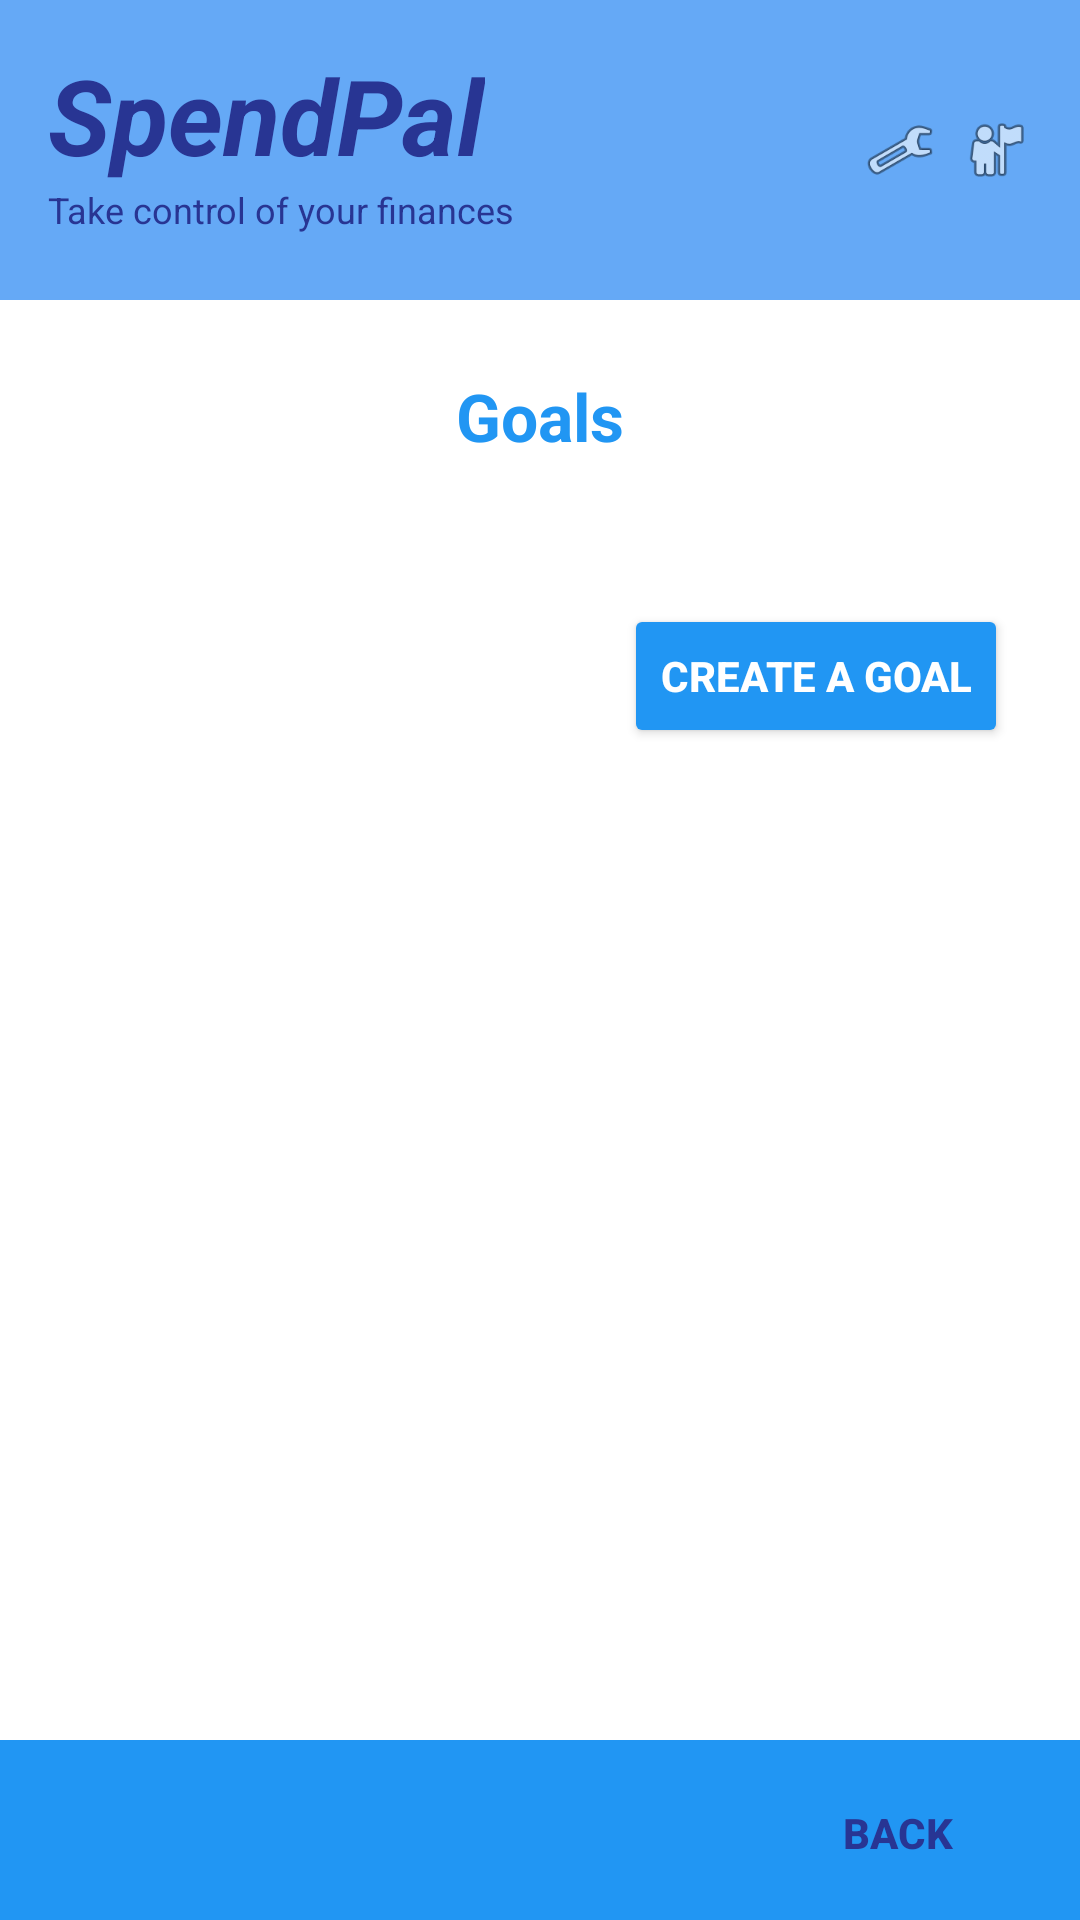

Where icons sit on this 1080w x 1920h app screen, as (x1, y1, x2, y2):
manage: (867, 125, 932, 175)
myplaces: (970, 123, 1024, 177)
